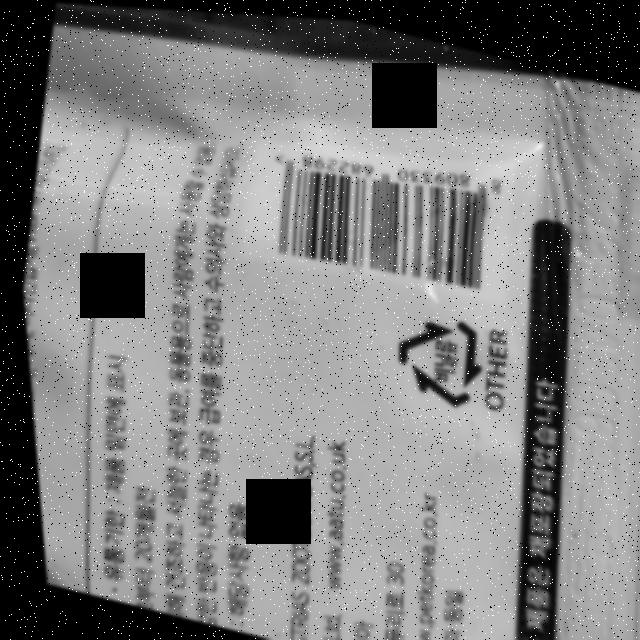Vinyl: (377, 299, 492, 413)
